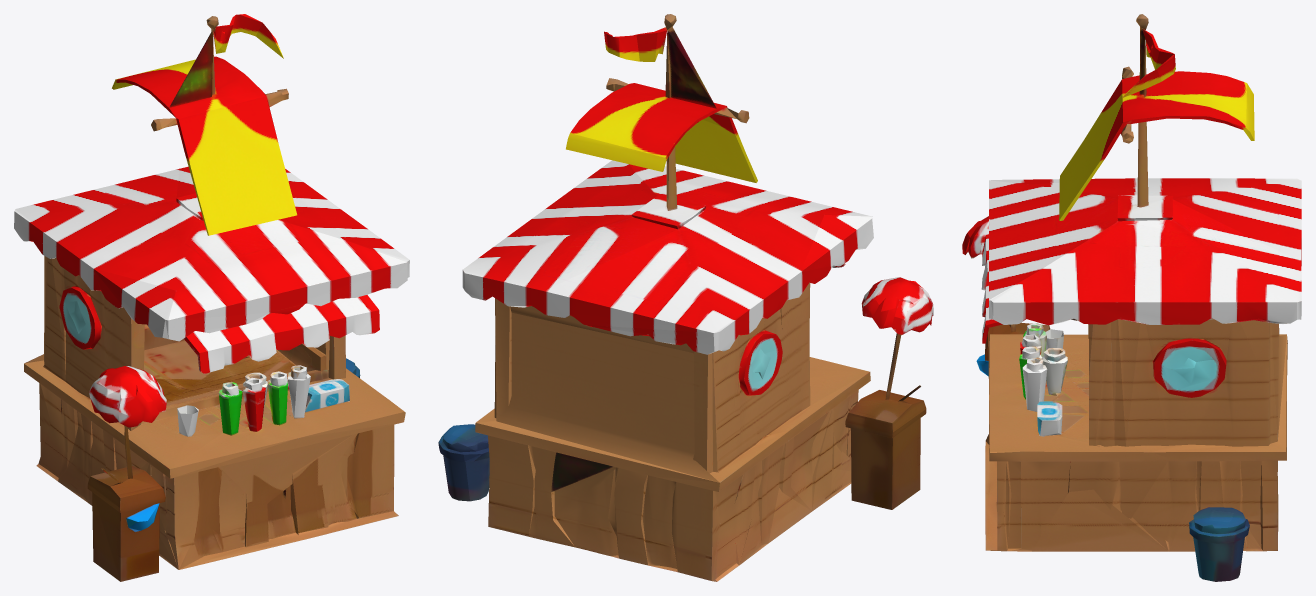
Rendered from kiosk.glb.
3 renders of one model, left to right at view 1: azimuth 30°, elevation 25°; view 2: azimuth 150°, elevation 25°; view 3: azimuth 270°, elevation 25°, orthographic. The views are drawn at different scales.
Size of the model in its own units: 1.53 by 1.9 by 1.21.
Materials: 1 (1 with a texture image).
